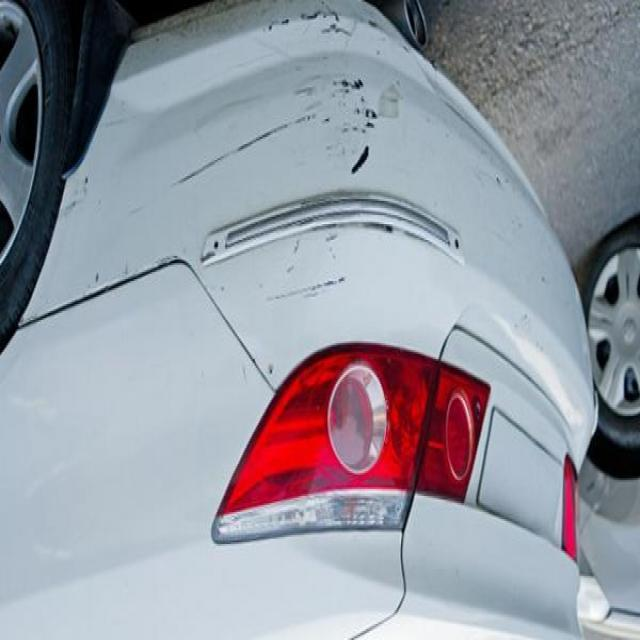scratch: (164, 108, 300, 210), (247, 268, 356, 324)
